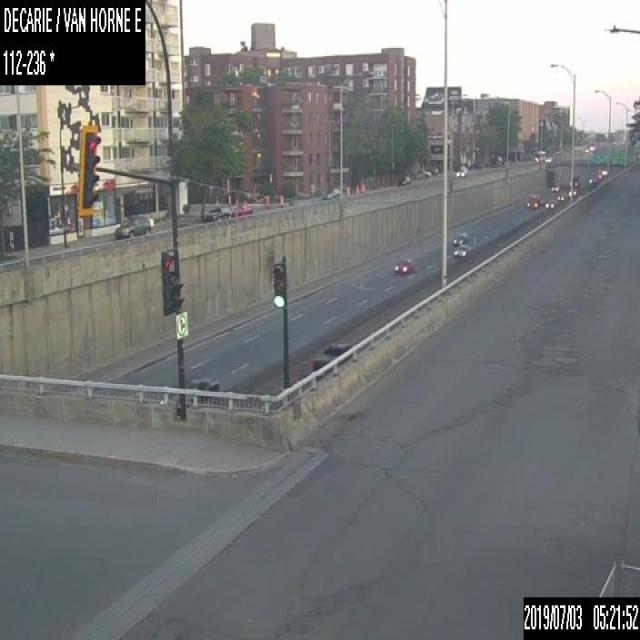construction: (279, 192, 283, 207), (266, 193, 269, 208), (360, 182, 364, 192), (355, 184, 358, 194)
vehicle: (167, 375, 221, 416), (310, 340, 351, 371), (114, 214, 151, 238), (201, 205, 229, 222), (230, 200, 252, 217), (392, 256, 413, 273), (452, 244, 472, 259), (452, 231, 468, 245), (322, 187, 340, 199), (526, 193, 539, 208), (415, 168, 430, 177), (399, 174, 410, 185), (544, 198, 556, 208), (455, 167, 467, 176), (556, 191, 566, 201), (567, 187, 577, 196), (550, 181, 559, 190), (568, 179, 578, 187), (588, 174, 596, 182)
